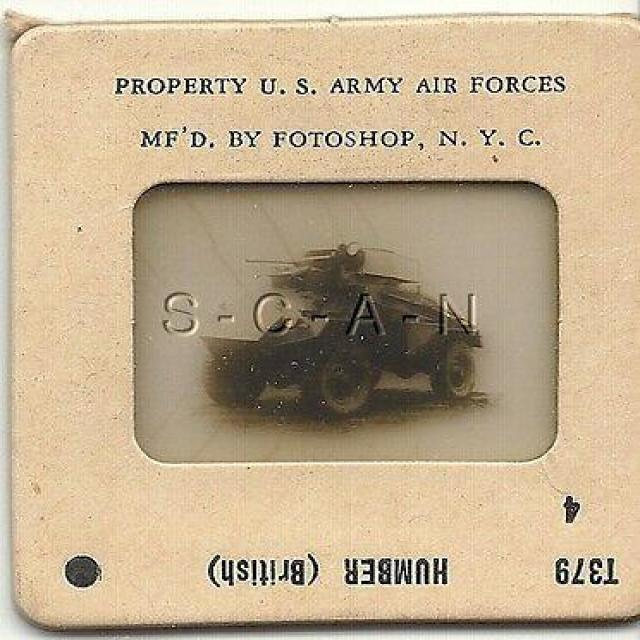Tanks: (128, 190, 519, 468)
